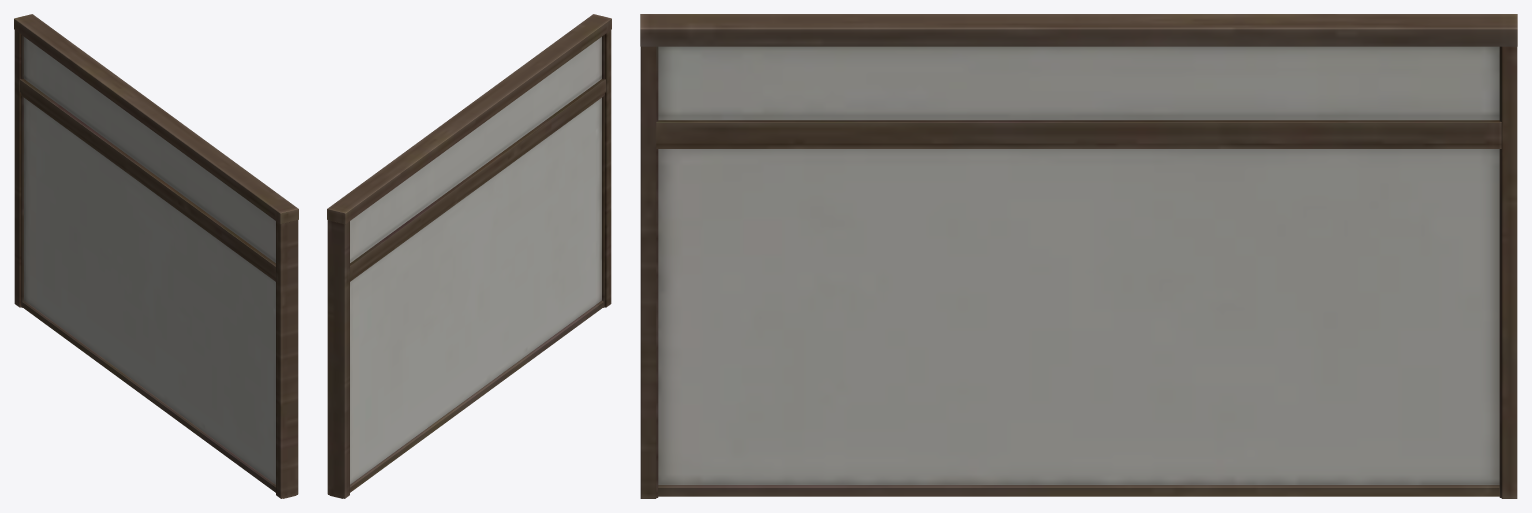
File: Architecture_JapaneseStyle_WallDiagonal_b599ce.glb
3 renders of one model, left to right at view 1: azimuth 30°, elevation 25°; view 2: azimuth 150°, elevation 25°; view 3: azimuth 270°, elevation 25°, orthographic. The views are drawn at different scales.
Bounding box in the file's own units: 0.2303 × 3.37 × 5.67.
Materials: 1 (1 with a texture image).
